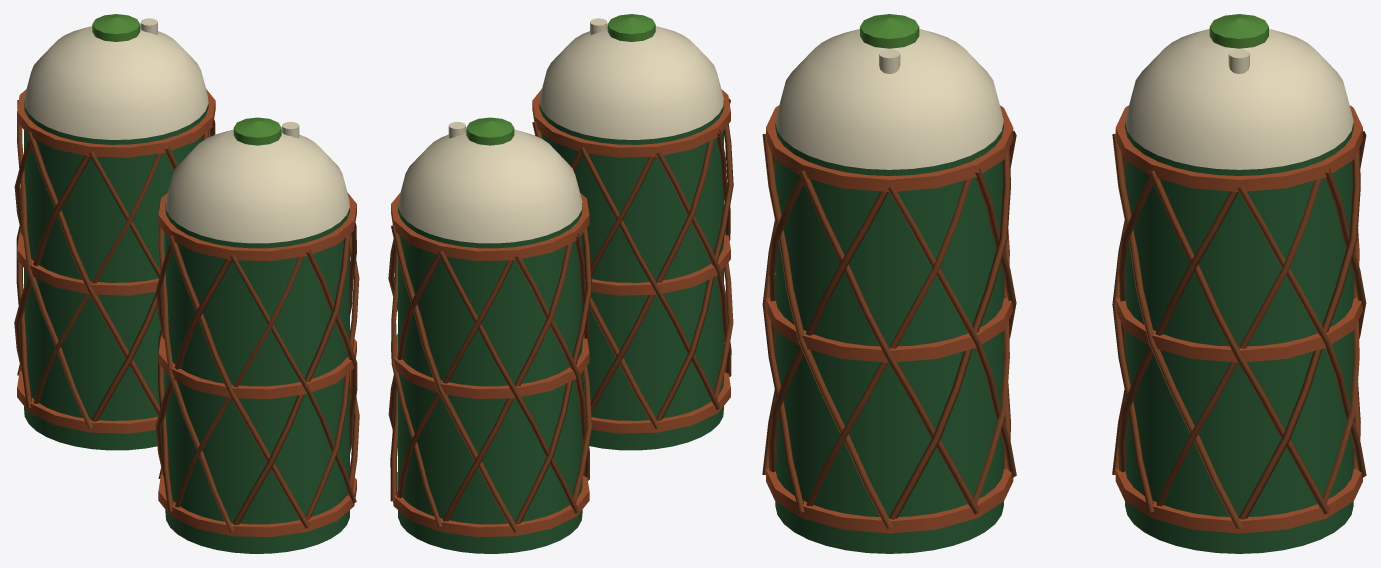
3 views of the same model, side by side, from view 1: azimuth 30°, elevation 25°; view 2: azimuth 150°, elevation 25°; view 3: azimuth 270°, elevation 25° (orthographic). The views are drawn at different scales.
Parts seen in each view (by area): view 1: u500_o2; view 2: u500_o2; view 3: u500_o2.
Boxes of the visible parts, x1=… form: u500_o2: x1=14, y1=14, x2=359, y2=553; u500_o2: x1=388, y1=14, x2=733, y2=553; u500_o2: x1=762, y1=14, x2=1366, y2=553.
Bounding box in the file's own units: 1.89 × 4 × 4.49.
